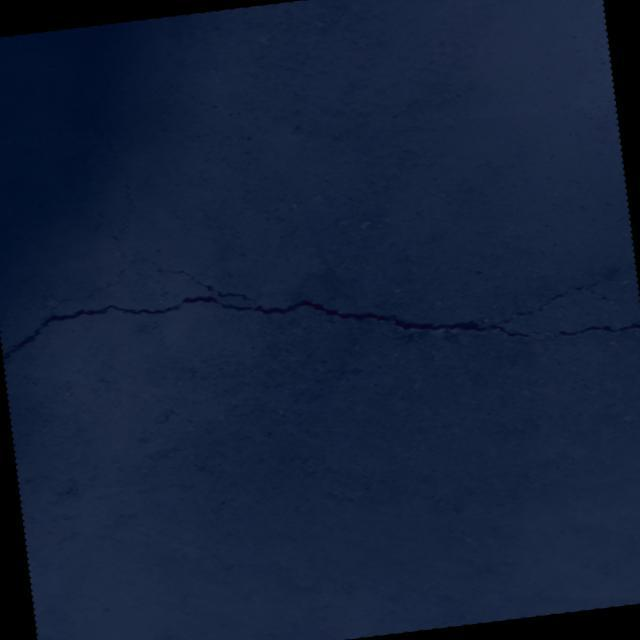crack: (0, 155, 640, 408), (46, 268, 132, 311), (87, 103, 114, 161), (124, 175, 136, 212), (596, 274, 637, 284), (104, 70, 110, 89)
